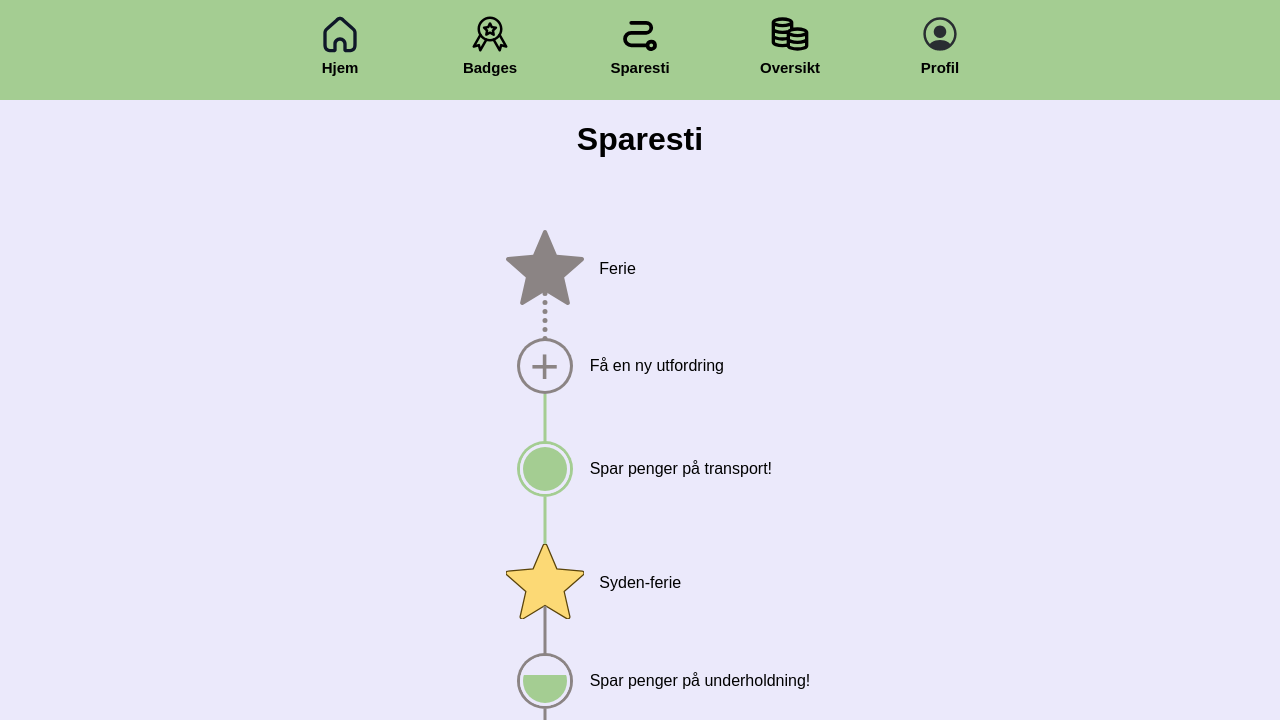
Test: SparestiView › should able to see detailed challenge information
Step 1. Click the element with class "circle_with_line" next to "Spar penger på transport!" → (545, 444), box [520,394,570,494]
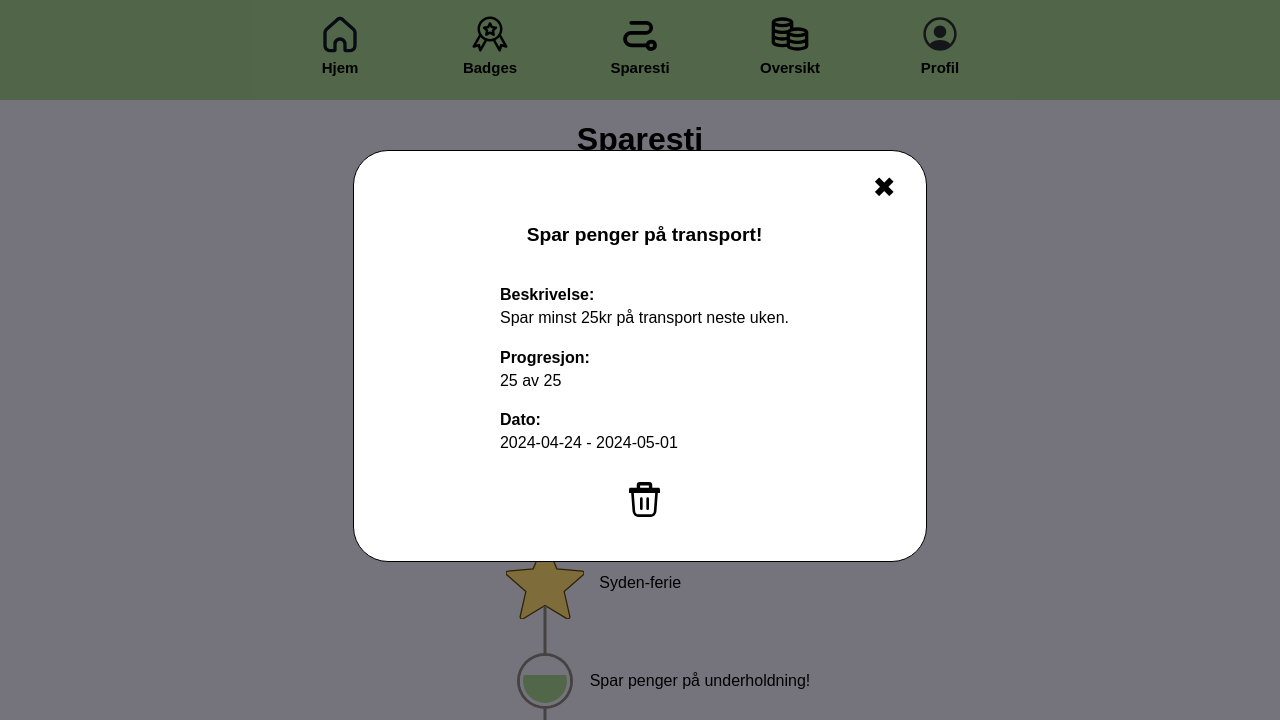
Result: the element with class "modal-wrapper" is shown at [353,150,927,562]
Result: the heading with class "modal-wrapper" shows "Spar penger på transport" at [527,224,763,245]
Result: the heading with class "modal-wrapper" reads "Progresjon:" at [500,349,590,366]
